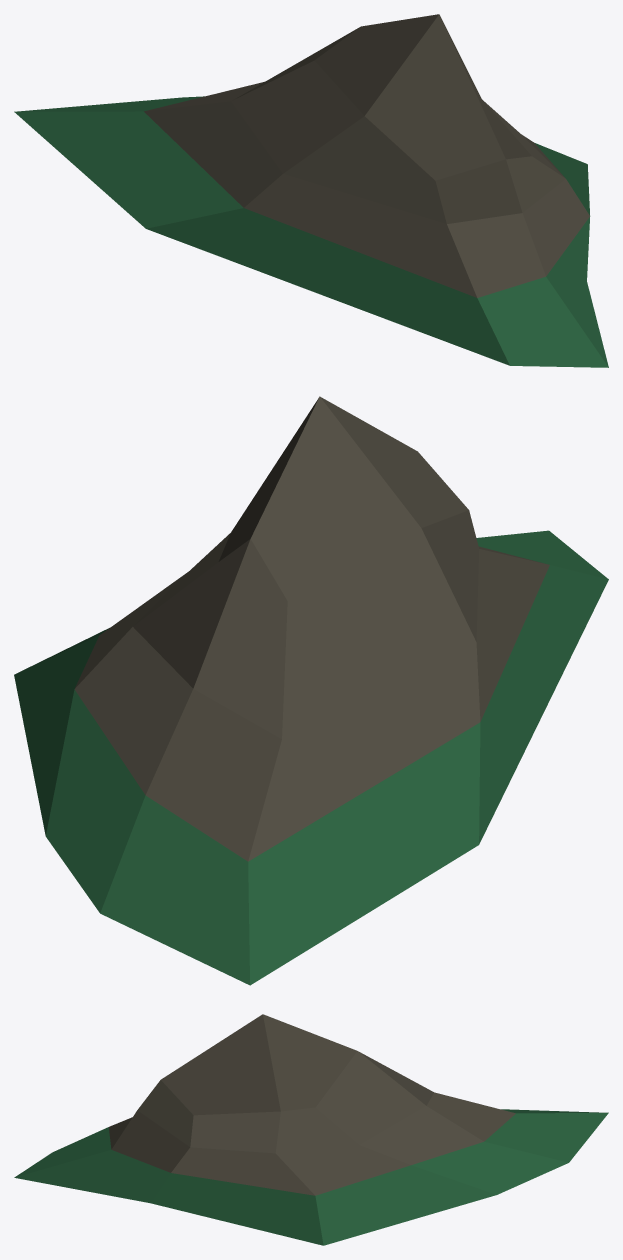
The model's file is Wzgorze1.fbx.
The picture shows the model from 3 angles, top to bottom: view 1: azimuth 30°, elevation 25°; view 2: azimuth 150°, elevation 25°; view 3: azimuth 270°, elevation 25°; orthographic projection. The views are drawn at different scales.
Visible parts, largest first — view 1: Wzgorze1; view 2: Wzgorze1; view 3: Wzgorze1.
Boxes of the visible parts, left/top/right/bottom form: Wzgorze1: left=14, top=14, right=608, bottom=367; Wzgorze1: left=14, top=396, right=608, bottom=985; Wzgorze1: left=14, top=1014, right=608, bottom=1245.
Bounding box in the file's own units: 143977 × 78622 × 257799.
